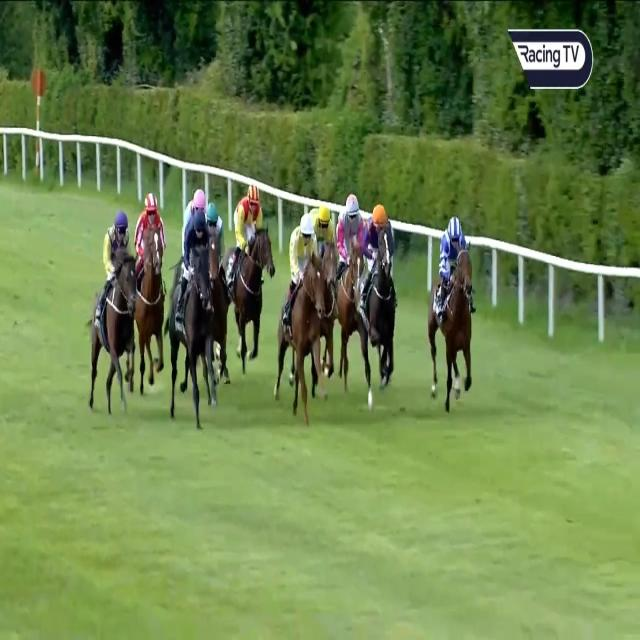horses-racing: (162, 193, 224, 431), (358, 198, 408, 418), (85, 204, 136, 403), (225, 184, 278, 368), (281, 212, 326, 424), (430, 209, 479, 400), (135, 188, 168, 388), (334, 194, 369, 268), (297, 196, 337, 255), (204, 198, 226, 296), (181, 181, 212, 242)
